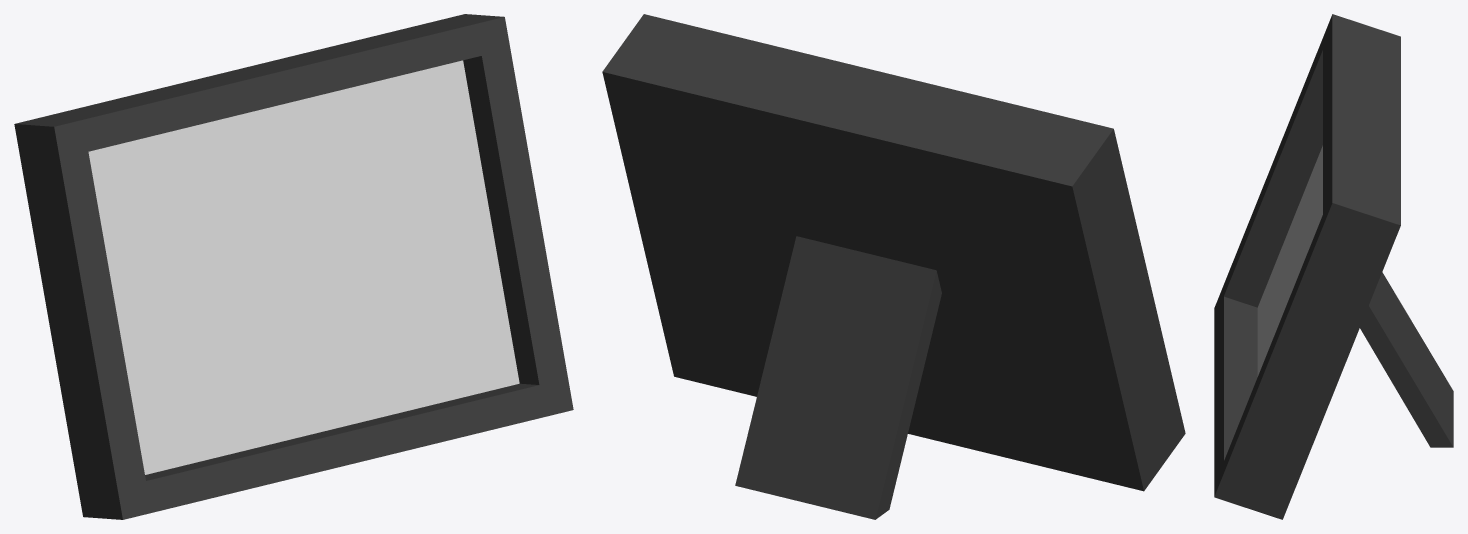
Rendered from photo_A.FBX.
The picture shows the model from 3 angles, left to right: view 1: azimuth 30°, elevation 25°; view 2: azimuth 150°, elevation 25°; view 3: azimuth 270°, elevation 25°; orthographic projection. The views are drawn at different scales.
Parts seen in each view (by area): view 1: photo_A; view 2: photo_A; view 3: photo_A.
Boxes of the visible parts, box(x1,y1,x2,y2) form: photo_A: box(14, 14, 573, 519); photo_A: box(602, 14, 1185, 519); photo_A: box(1214, 14, 1453, 519).
Size of the model in its own units: 18.02 by 14.1 by 9.65.
